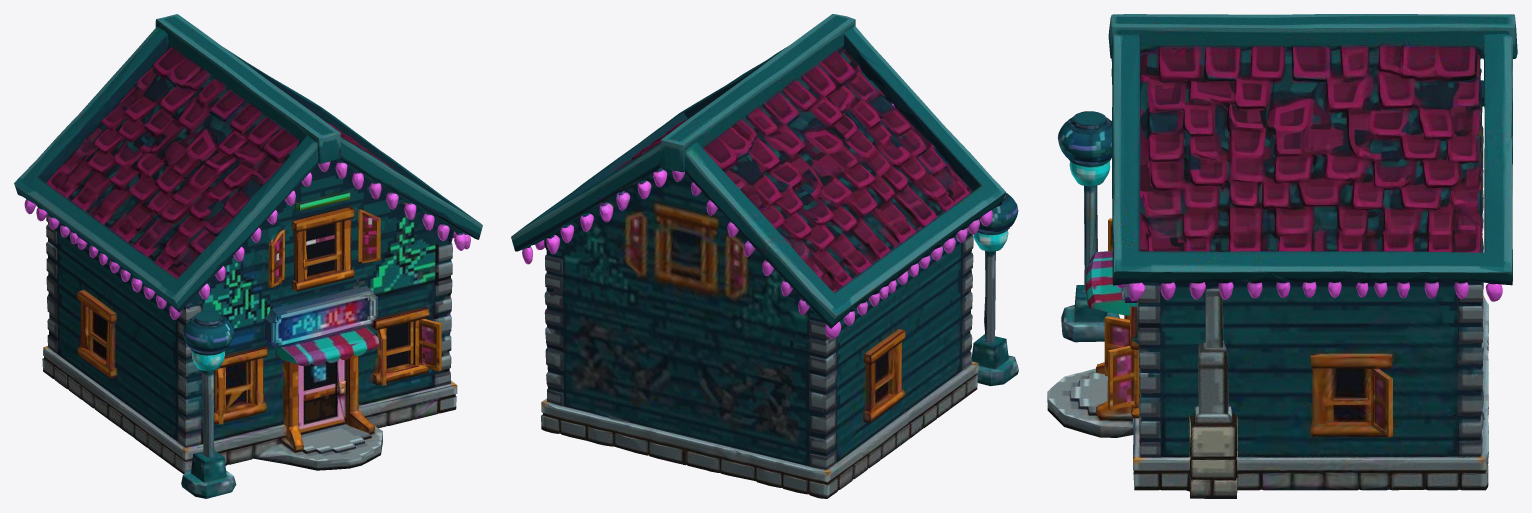
The model's file is police.glb.
3 renders of one model, left to right at view 1: azimuth 30°, elevation 25°; view 2: azimuth 150°, elevation 25°; view 3: azimuth 270°, elevation 25°, orthographic. The views are drawn at different scales.
Bounding box in the file's own units: 12 × 11.62 × 12.73.
Materials: 1 (1 with a texture image).
